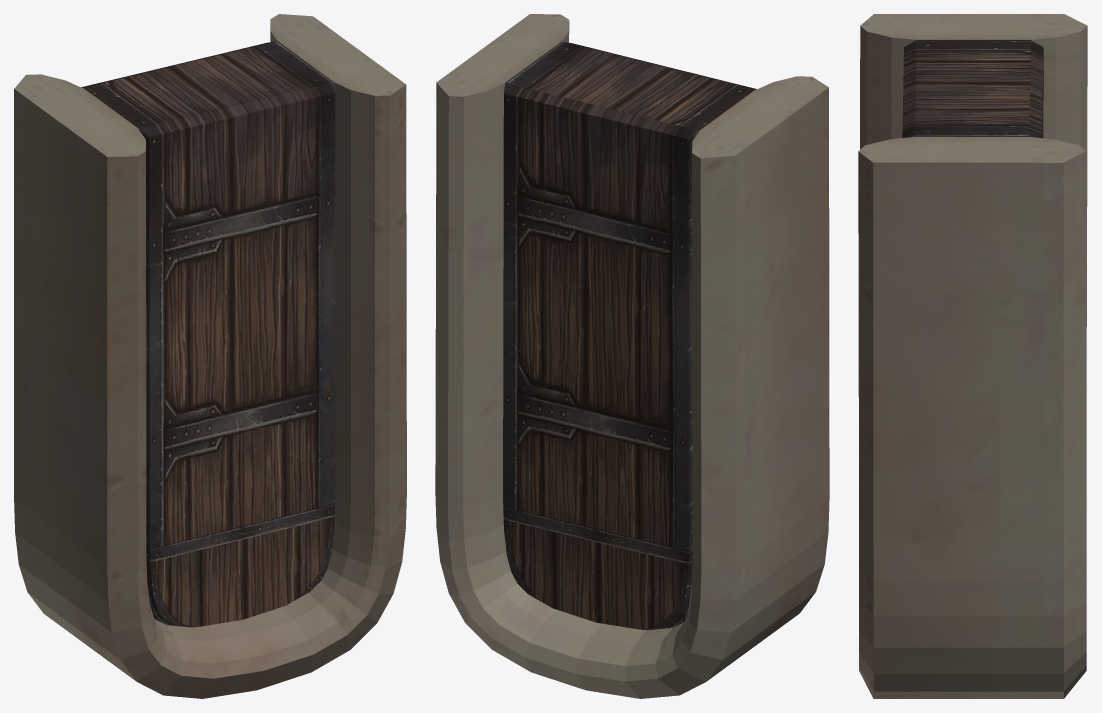
Rendered from DoorClose.FBX.
3 renders of one model, left to right at view 1: azimuth 30°, elevation 25°; view 2: azimuth 150°, elevation 25°; view 3: azimuth 270°, elevation 25°, orthographic. The views are drawn at different scales.
Visible parts, largest first — view 1: Line002; view 2: Line002; view 3: Line002.
Boxes of the visible parts, x1,y1,x2,y2 form: Line002: (14,14,406,698); Line002: (435,14,829,698); Line002: (858,14,1087,698).
Size of the model in its own units: 99.1 by 180 by 64.28.
Materials: 1 (1 with a texture image).
